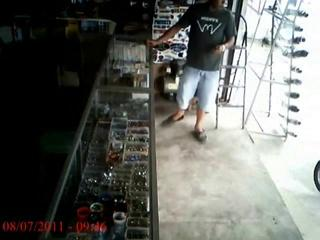Normal: (146, 0, 237, 142)
